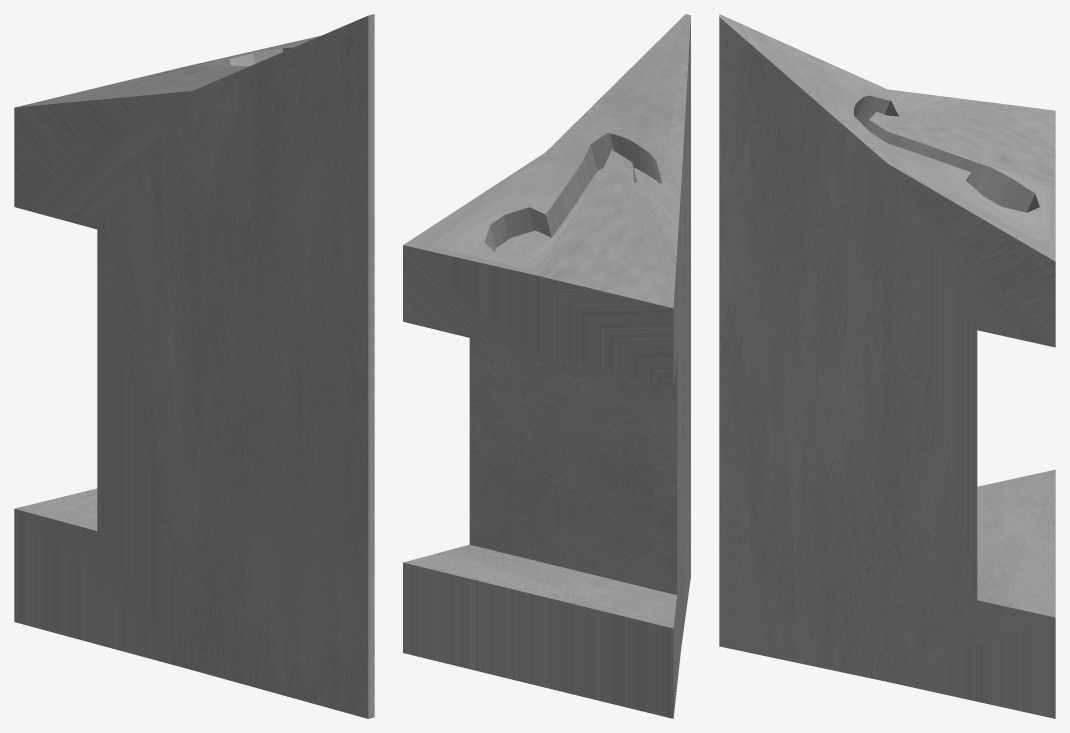
Rendered from Obstacle2.fbx.
3 views of the same model, side by side, from view 1: azimuth 30°, elevation 25°; view 2: azimuth 150°, elevation 25°; view 3: azimuth 270°, elevation 25° (orthographic). The views are drawn at different scales.
Parts seen in each view (by area): view 1: Object22; view 2: Object22; view 3: Object22.
Boxes of the visible parts, <box> form: Object22: <box>14,14,374,718</box>; Object22: <box>403,14,690,718</box>; Object22: <box>719,14,1055,718</box>.
Bounding box in the file's own units: 5.4 × 10.7 × 5.18.
Materials: 1 (1 with a texture image).
